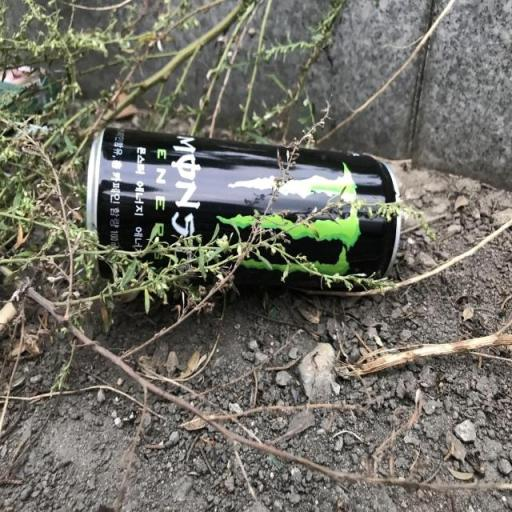metal: (40, 102, 430, 328)
